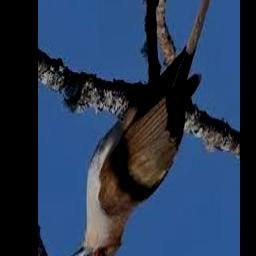Cuckoo: (66, 0, 222, 256)
